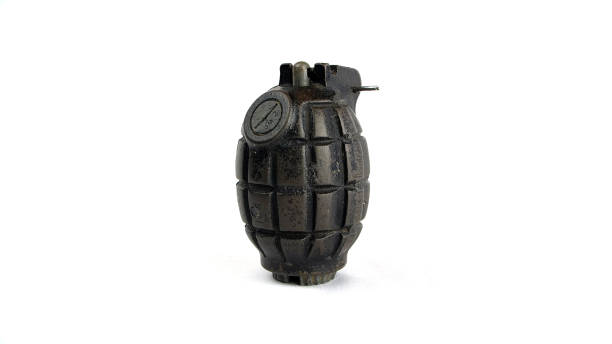e1: (230, 59, 380, 283)
